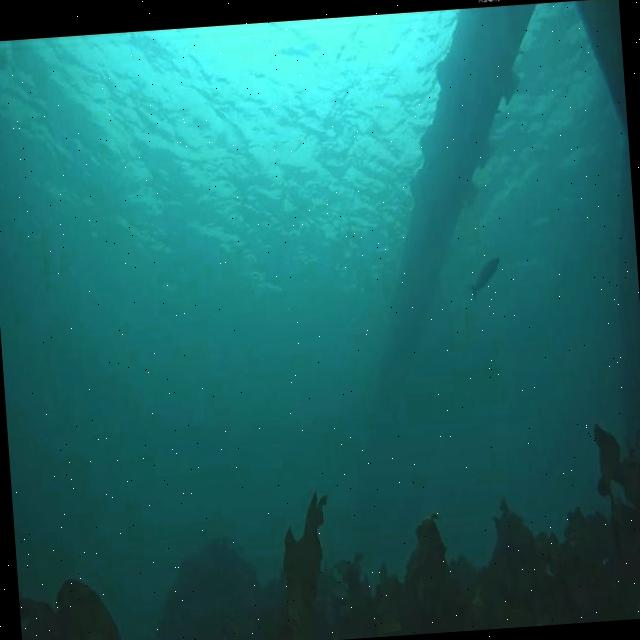fish: (466, 255, 500, 302)
